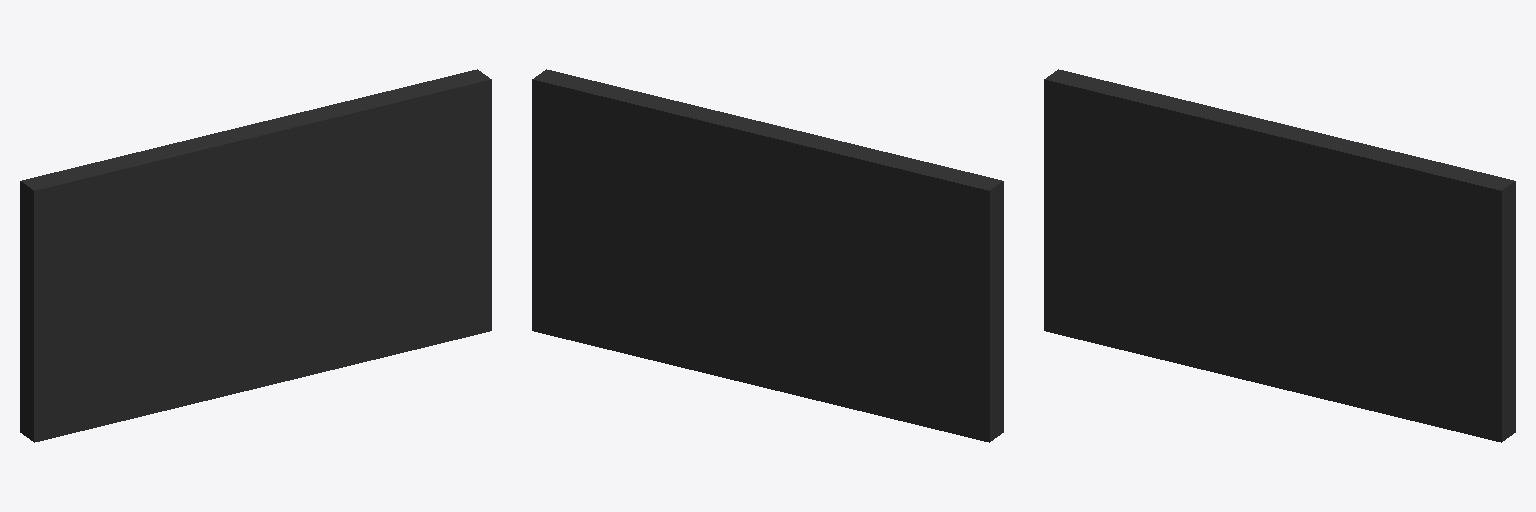
robot.urdf — wall:
<robot name="wall">
  <link name="baseLink">
   
    <inertial>
      <origin rpy="0 0 0" xyz="0 0 0" />
       <mass value="10" />
       <inertia ixx="0" ixy="0" ixz="0" iyy="0" iyz="0" izz="0" />
    </inertial>
    <visual>
      <origin rpy="0 0 0" xyz="0 0 0" />
      <geometry>
			  <box size="1.9 0.1 1" />
      </geometry>
       <material name="grey">
        <color rgba="0.24 0.24 0.24 1" />
      </material>
    </visual>
    <collision>
      <origin rpy="0 0 0" xyz="0 0 0" />
      <geometry>
	 	      <box size="1.9 0.1 1" />
      </geometry>
    </collision>
  </link>
</robot>

--- Render facts (derived) ---
Views: 3 orthographic renders of the robot side by side, from view 1: azimuth 30°, elevation 25°; view 2: azimuth 150°, elevation 25°; view 3: azimuth 330°, elevation 25°.
Robot: wall — 1 links, 0 joints (none); root link baseLink; default pose: all joints at 0.
Links seen in each view (by area): view 1: baseLink; view 2: baseLink; view 3: baseLink.
Boxes of the visible links, left/top/right/bottom form: baseLink: left=20, top=69, right=491, bottom=442; baseLink: left=532, top=69, right=1003, bottom=442; baseLink: left=1044, top=69, right=1515, bottom=442.
Size in the robot's own frame: 1.9 by 0.1 by 1 metres.
Geometry: primitives only (box / cylinder / sphere), no mesh files.
